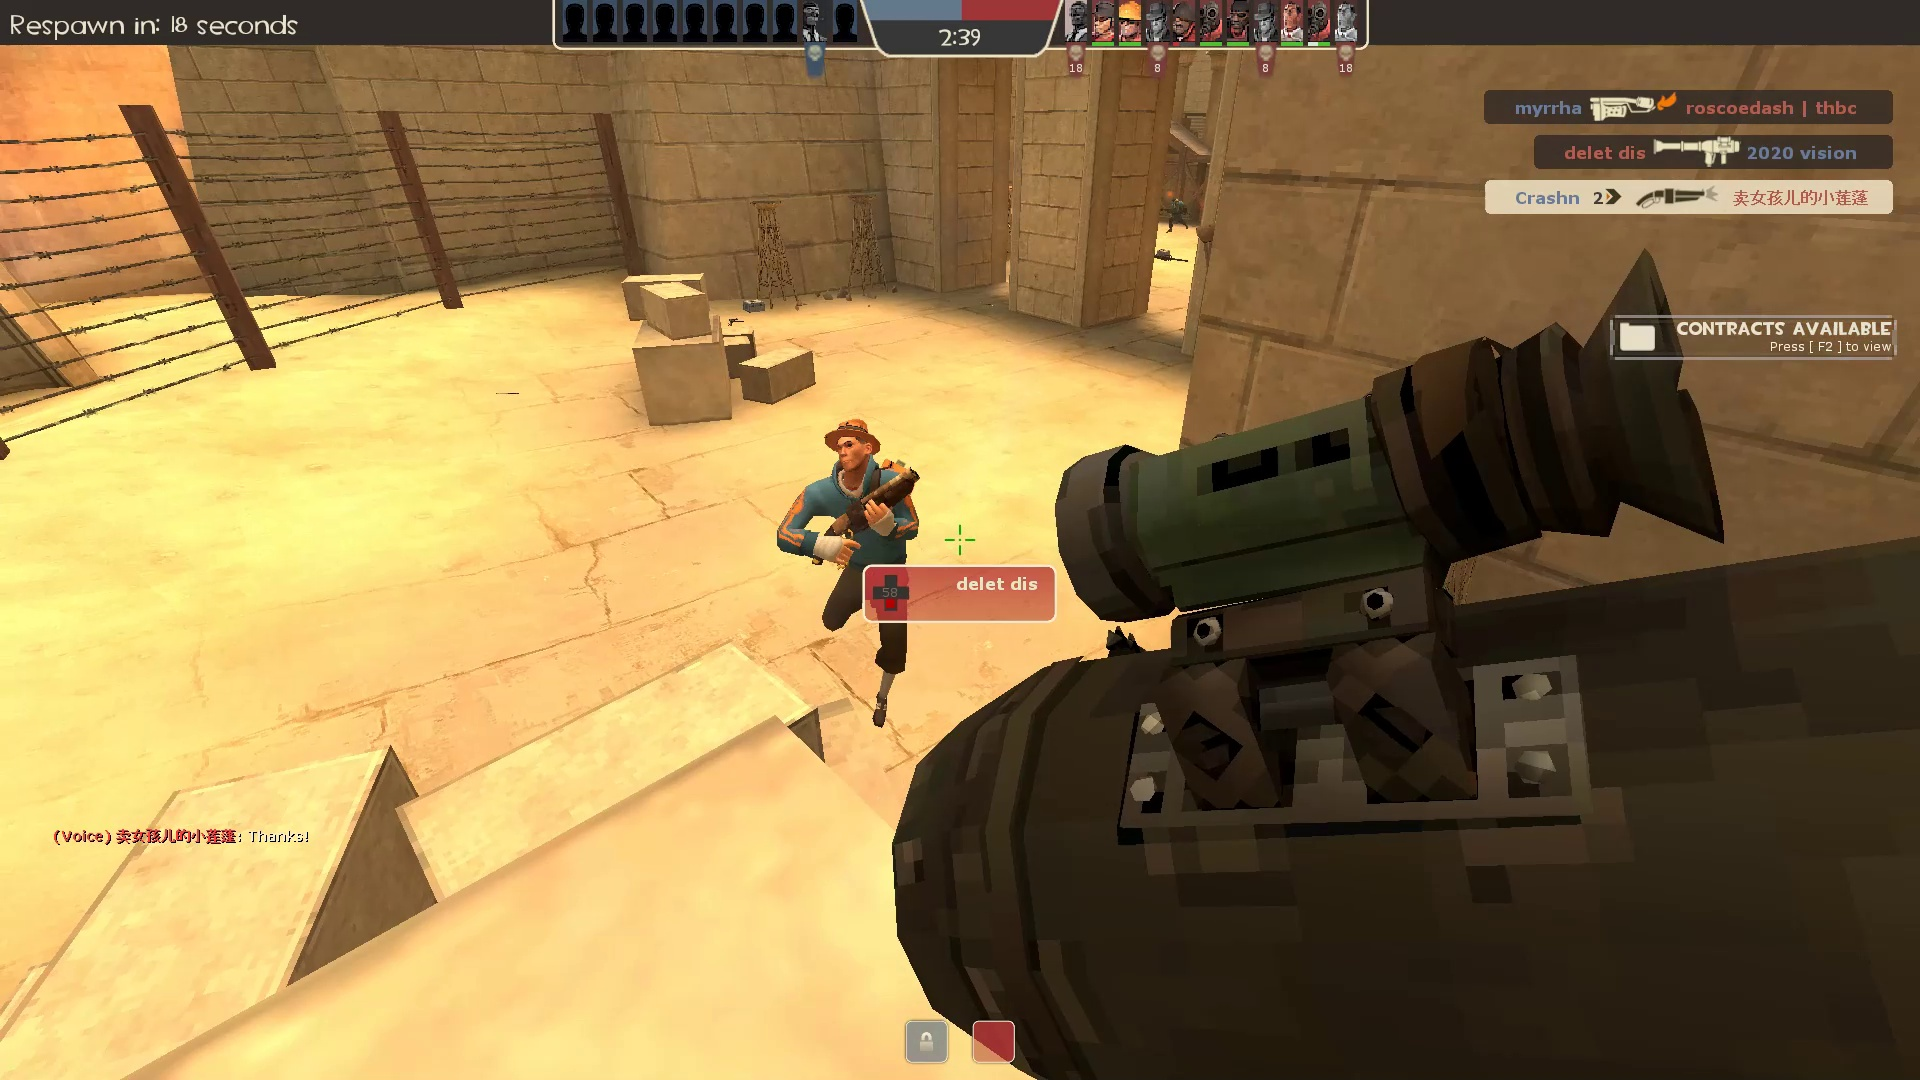blu_pyro: (1158, 191, 1191, 236)
blu_scout: (773, 409, 931, 738)
